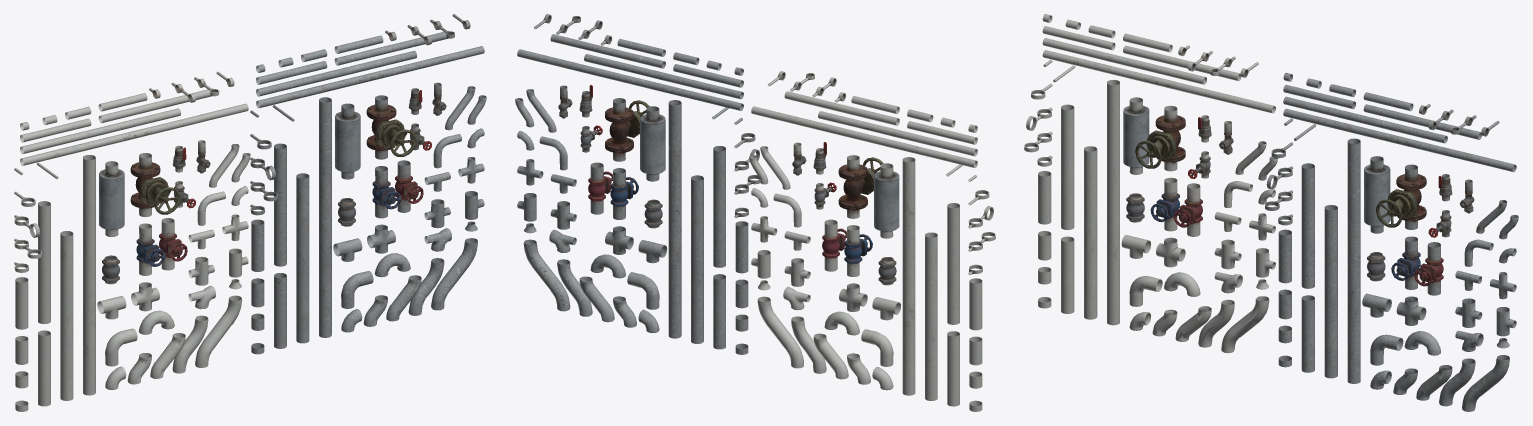
Rendered from modular_pipes.glb.
3 renders of one model, left to right at view 1: azimuth 30°, elevation 25°; view 2: azimuth 150°, elevation 25°; view 3: azimuth 330°, elevation 25°, orthographic. The views are drawn at different scales.
Visible parts, largest first — view 1: pipe_5cm_pvc, pipe_5cm_metal; view 2: pipe_5cm_pvc, pipe_5cm_metal; view 3: pipe_5cm_metal, pipe_5cm_pvc.
Part boxes in pixels (box(x1,y1,x2,y2)): pipe_5cm_pvc: box(14, 71, 250, 411); pipe_5cm_metal: box(250, 14, 486, 354); pipe_5cm_pvc: box(749, 71, 995, 411); pipe_5cm_metal: box(515, 14, 760, 354); pipe_5cm_metal: box(1265, 73, 1518, 411); pipe_5cm_pvc: box(1024, 14, 1277, 353).
Size of the model in its own units: 4.19 by 2.43 by 0.4578.
Materials: 2 (2 with a texture image).
